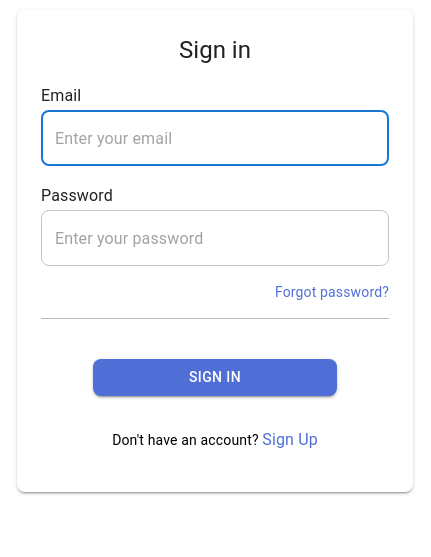
Test: Login Component › shows error message when password is too short
This screenshot has width=431, height=557.
Note: Enter a short password and submit the form
Type "short" into the password field with placeholder "Enter your password" at coordinates (215, 238), box left=41, top=210, right=389, bottom=266
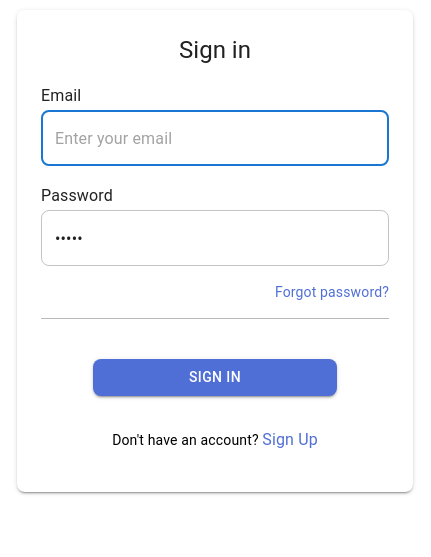
Click the button "Sign In" at coordinates (215, 377), box left=93, top=359, right=337, bottom=396
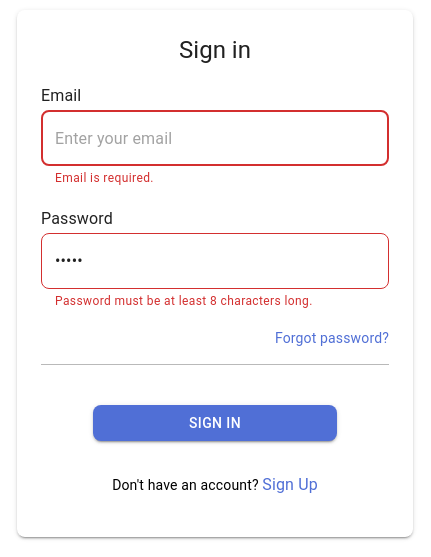
Check: the text "Password must be at least 8 characters long." is shown, box left=55, top=294, right=313, bottom=308
